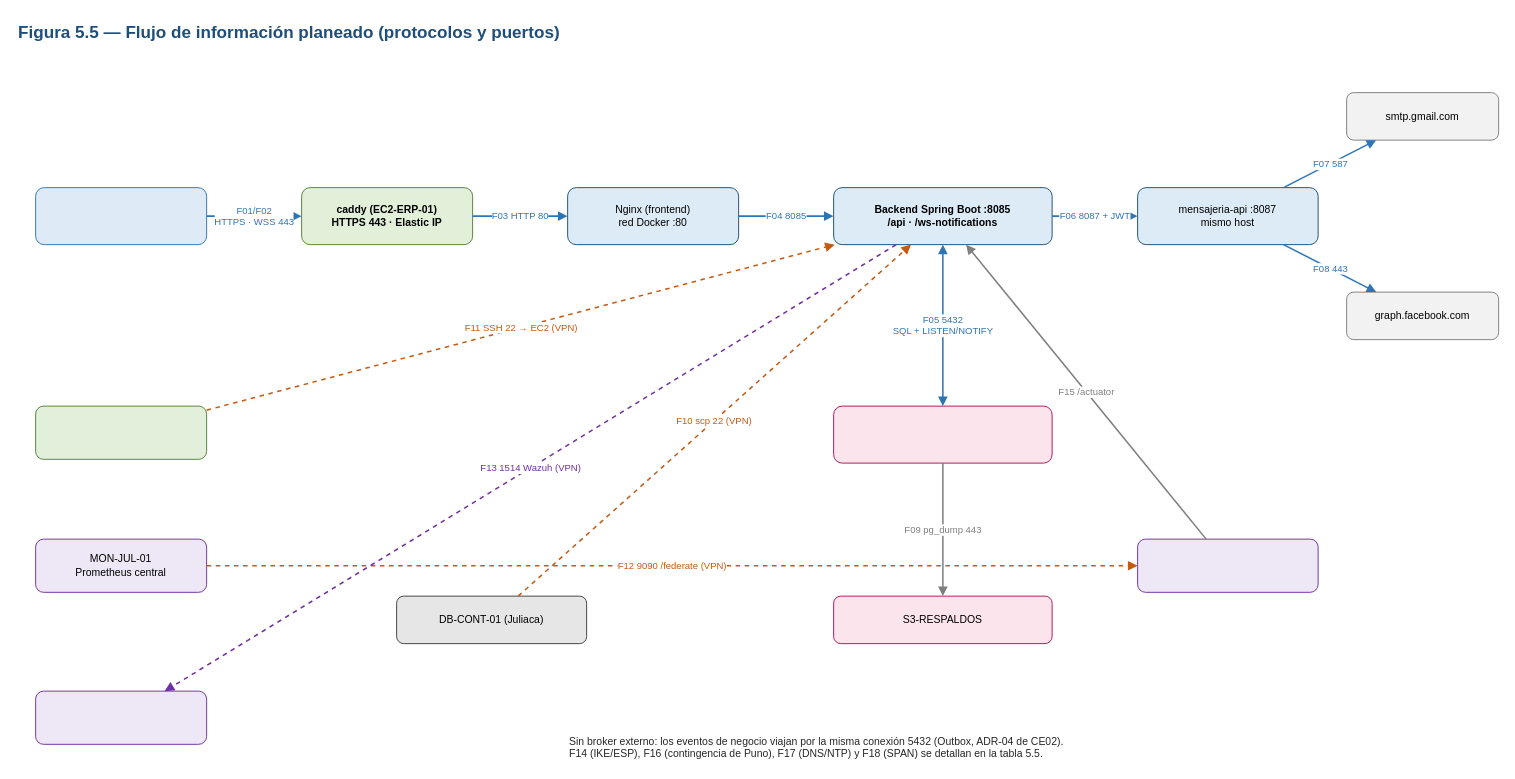
Some shapes in this 1515 by 779 pixel diagram are drawn without their labels. Here are the shapes that lost their labels. From the top down, the centre of each, then its label:
the point at 121,216: Navegador (sedes o remoto)
the point at 121,432: Estación admin. 10.10.70.50
the point at 942,434: PostgreSQL :5432 (contenedor db) cola_eventos + pg_notify
the point at 1227,565: Prometheus :9090
the point at 121,717: SIEM-JUL-01 Wazuh
